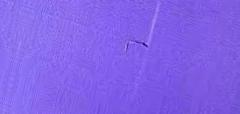snag: (123, 37, 151, 55)
